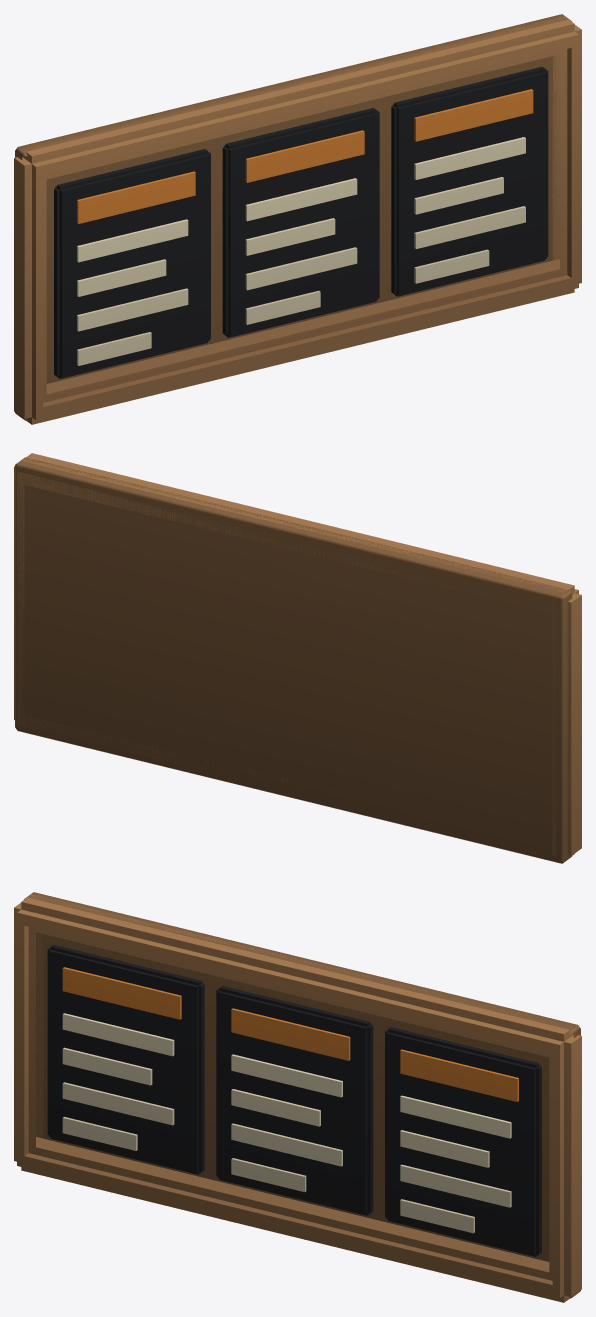
The model's file is SM_Menu_Board_Wall_01.glb.
3 views of the same model, one above another, from view 1: azimuth 30°, elevation 25°; view 2: azimuth 150°, elevation 25°; view 3: azimuth 330°, elevation 25° (orthographic).
Parts seen in each view (by area): view 1: SM_Menu_Board_Wall_01; view 2: SM_Menu_Board_Wall_01; view 3: SM_Menu_Board_Wall_01.
Part boxes in pixels (bbox=[...]): SM_Menu_Board_Wall_01: bbox=[14, 14, 581, 424]; SM_Menu_Board_Wall_01: bbox=[14, 453, 581, 863]; SM_Menu_Board_Wall_01: bbox=[14, 892, 581, 1302].
Size of the model in its own units: 1.52 by 0.7 by 0.09.
Materials: 1 (1 with a texture image).
